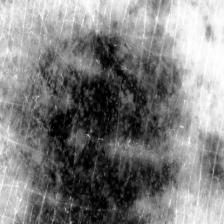Benign Marking or Mole: (18, 36, 176, 218)
